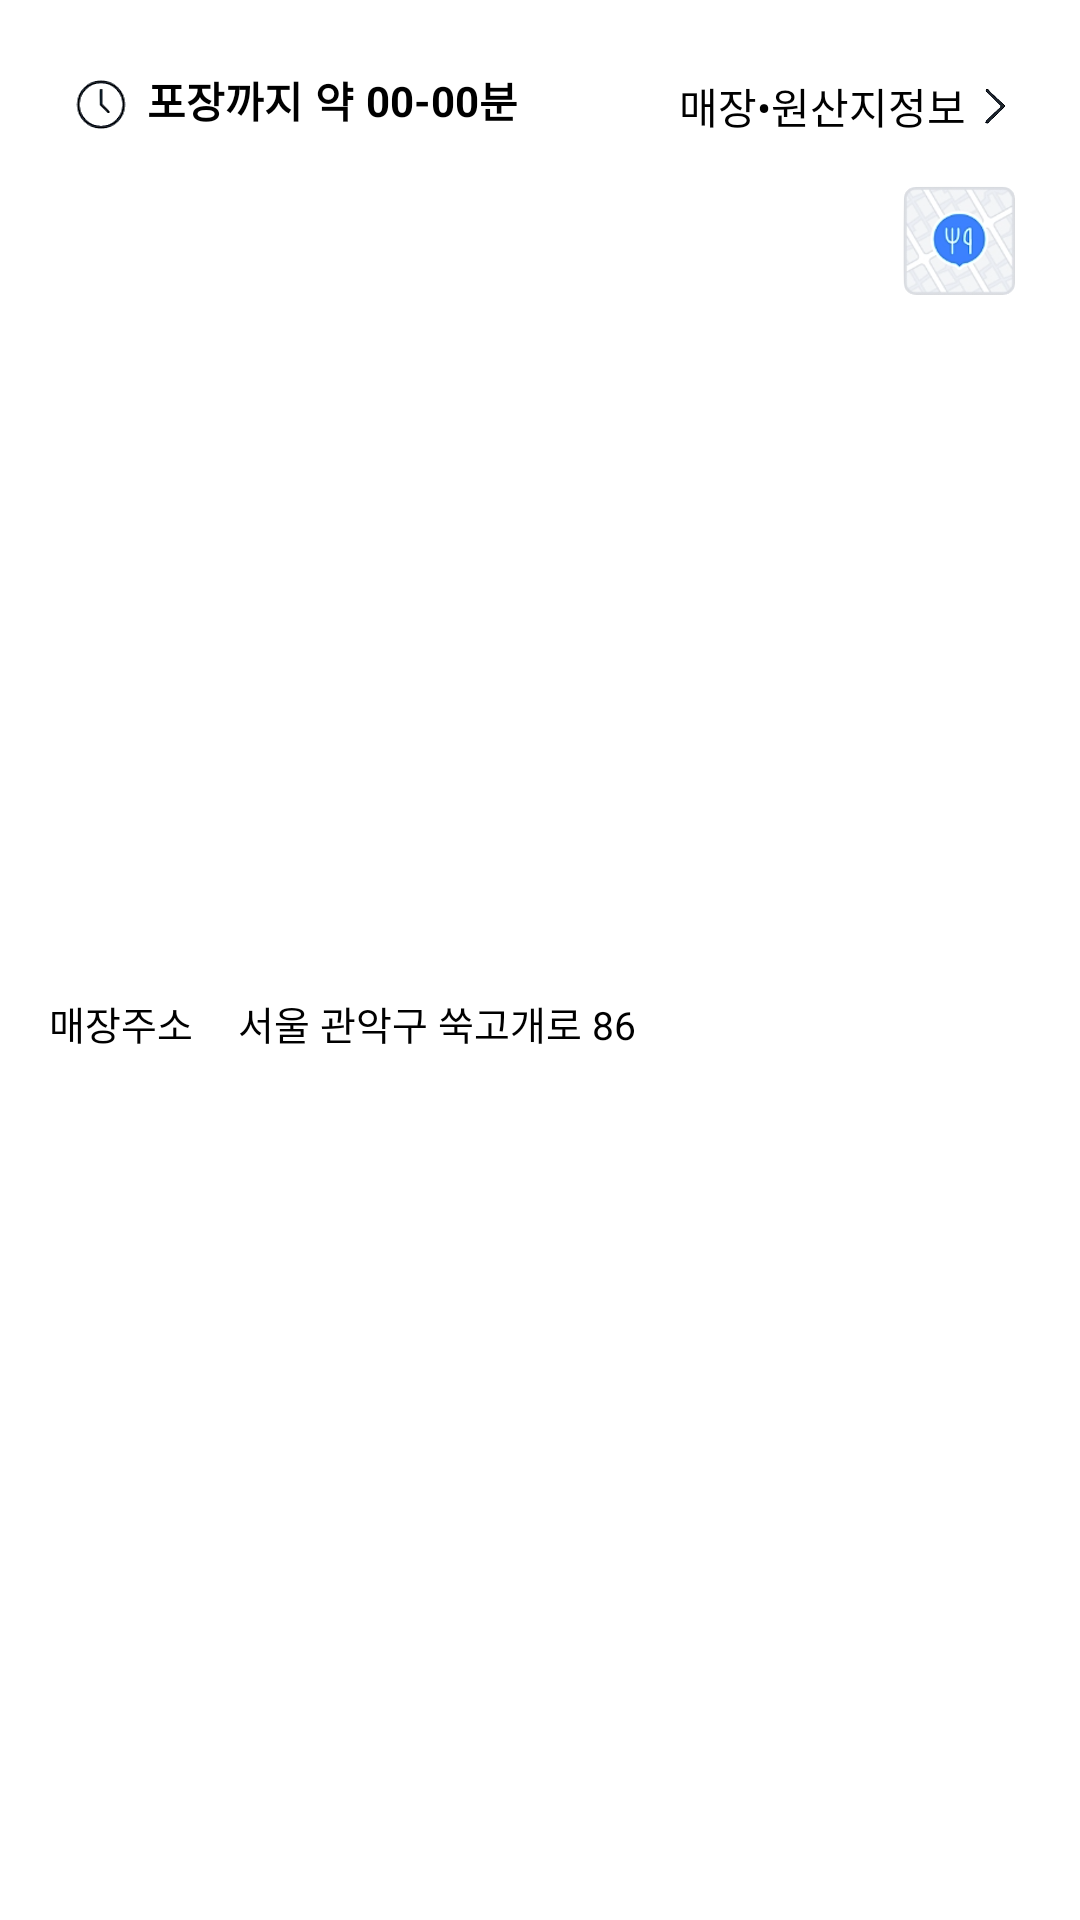

Point at icon controls on the screen. Image size 1080px×1920px, points as (x=x, y=y).
signup terms detail: (x=995, y=106)
store map: (x=959, y=241)
store time: (x=101, y=104)
